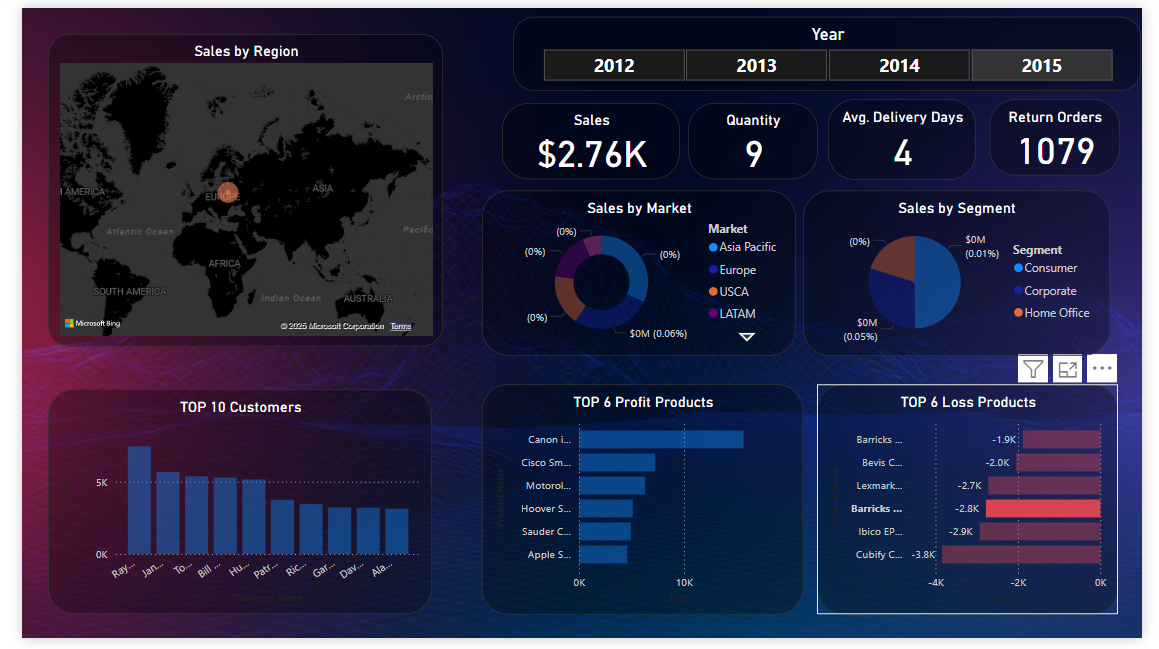

This screenshot's page, from the dashboard's own definition file:
{"tool":"powerbi","page":{"name":"P","canvas":[1280,720],"ordinal":0},"visuals":[{"type":"card","title":"Sales","fields":{"Values":["Orders.Sales"]},"box":[548.8,108.1,203.5,87.2],"z":0},{"type":"card","title":"Quantity","fields":{"Values":["Orders.Quantity"]},"box":[761.6,108.1,147.7,87.2],"z":1000},{"type":"card","title":"Avg. Delivery Days","fields":{"Values":["Orders.Delivery Days"]},"box":[920.9,104.7,168.6,91.9],"z":2000},{"type":"slicer","title":"Year","fields":{"Values":["Orders.Year"]},"box":[561.6,9.3,717.4,84.9],"z":3000},{"type":"card","title":"Return Orders","fields":{"Values":["Returns.Return Orders"]},"box":[1105.8,104.7,148.8,87.2],"z":4000},{"type":"map","fields":{"Size":["Orders.Sales"],"Category":["Orders.Region"]},"box":[30,30,451.4,357.1],"z":5000},{"type":"barChart","title":"TOP 6 Profit  Products","fields":{"Category":["Orders.Product Name"],"Y":["Orders.Profit"]},"box":[525.7,430,367.1,262.9],"z":6000},{"type":"barChart","title":"TOP 6 Loss  Products","fields":{"Category":["Orders.Product Name"],"Y":["Orders.Profit"]},"box":[908.6,430,344.3,262.9],"z":7000},{"type":"pieChart","fields":{"Category":["Orders.Segment"],"Y":["Orders.Sales"]},"box":[892.9,208.6,350,188.6],"z":8000},{"type":"donutChart","fields":{"Y":["Orders.Sales"],"Category":["Orders.Market"]},"box":[525.7,208.6,358.6,188.6],"z":9000},{"type":"columnChart","title":"TOP 10 Customers","fields":{"Y":["Orders.Profit"],"Category":["Orders.Customer Name"]},"box":[30,435.7,438.6,257.1],"z":10000}]}

Visuals, with their boxes in screenshot pixels (x1, y1, x2, y2), scaled from the page's 1280x720 canvas onto the 1159x649 screenshot:
"Sales" card: 497:97:681:176
"Quantity" card: 690:97:823:176
"Avg. Delivery Days" card: 834:94:987:177
"Year" slicer: 509:8:1158:85
"Return Orders" card: 1001:94:1136:173
map - Orders.Sales x Orders.Region: 27:27:436:349
"TOP 6 Profit  Products" barChart: 476:388:808:625
"TOP 6 Loss  Products" barChart: 823:388:1134:625
pieChart - Orders.Segment x Orders.Sales: 808:188:1125:358
donutChart - Orders.Sales x Orders.Market: 476:188:801:358
"TOP 10 Customers" columnChart: 27:393:424:624
